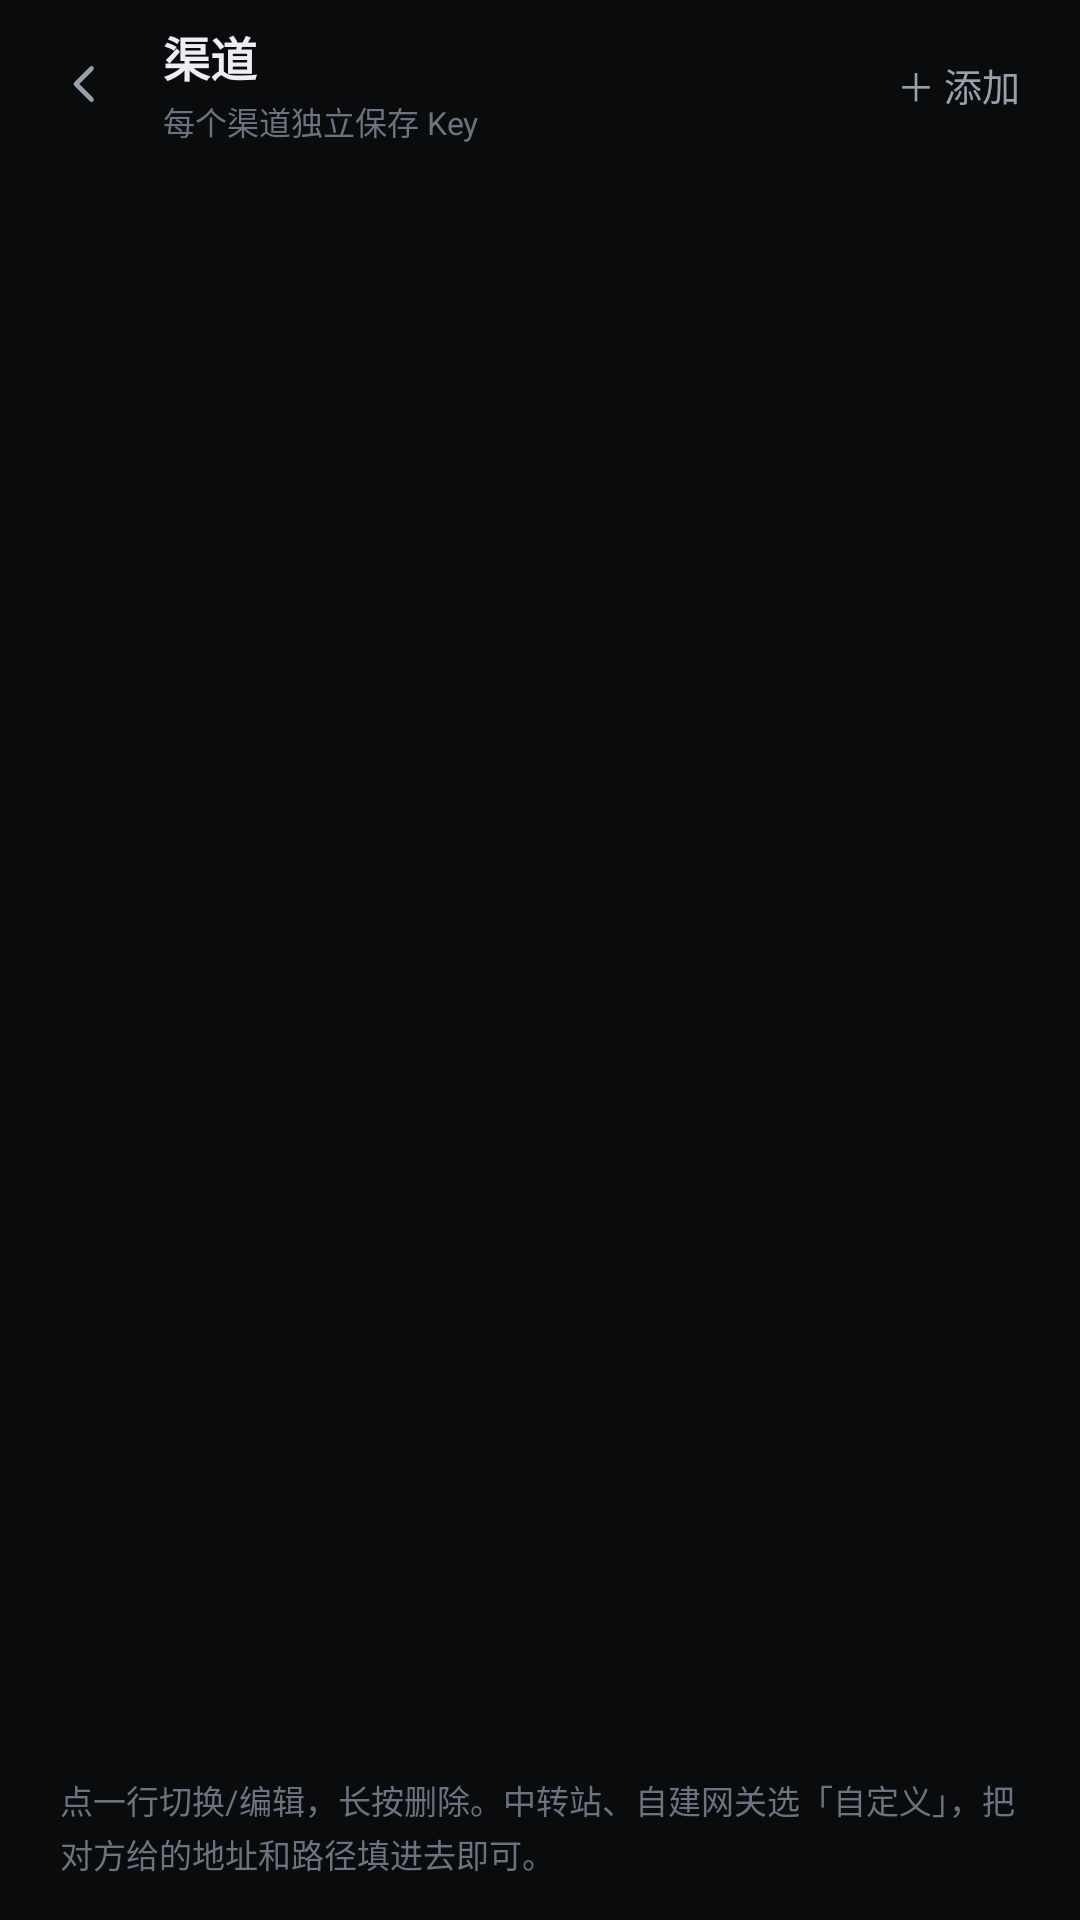

Icon bounding boxes for this 1080 x 1920 phone screenshot, format (x1, y1, x2, y2):
返回: (73, 66, 94, 102)
